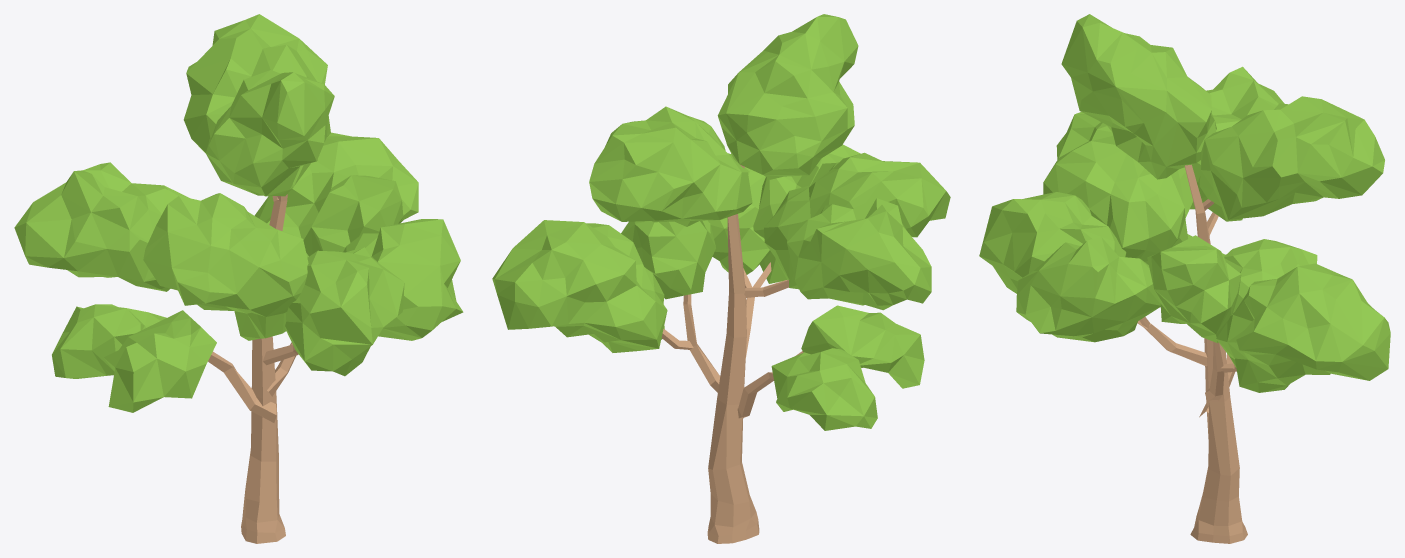
The model's file is Htree.glb.
The picture shows the model from 3 angles, left to right: view 1: azimuth 30°, elevation 25°; view 2: azimuth 150°, elevation 25°; view 3: azimuth 270°, elevation 25°; orthographic projection. The views are drawn at different scales.
Visible parts, largest first — view 1: HTree; view 2: HTree; view 3: HTree.
Part boxes in pixels (x1,y1,x2,y2): HTree: (14,14,463,543); HTree: (492,14,950,543); HTree: (979,14,1390,543).
Bounding box in the file's own units: 5.22 × 6.11 × 4.58.
